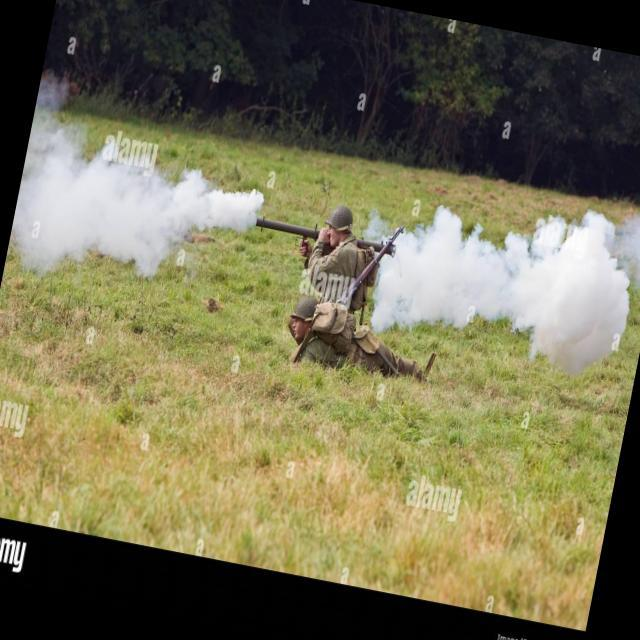rocket: (254, 203, 399, 264)
